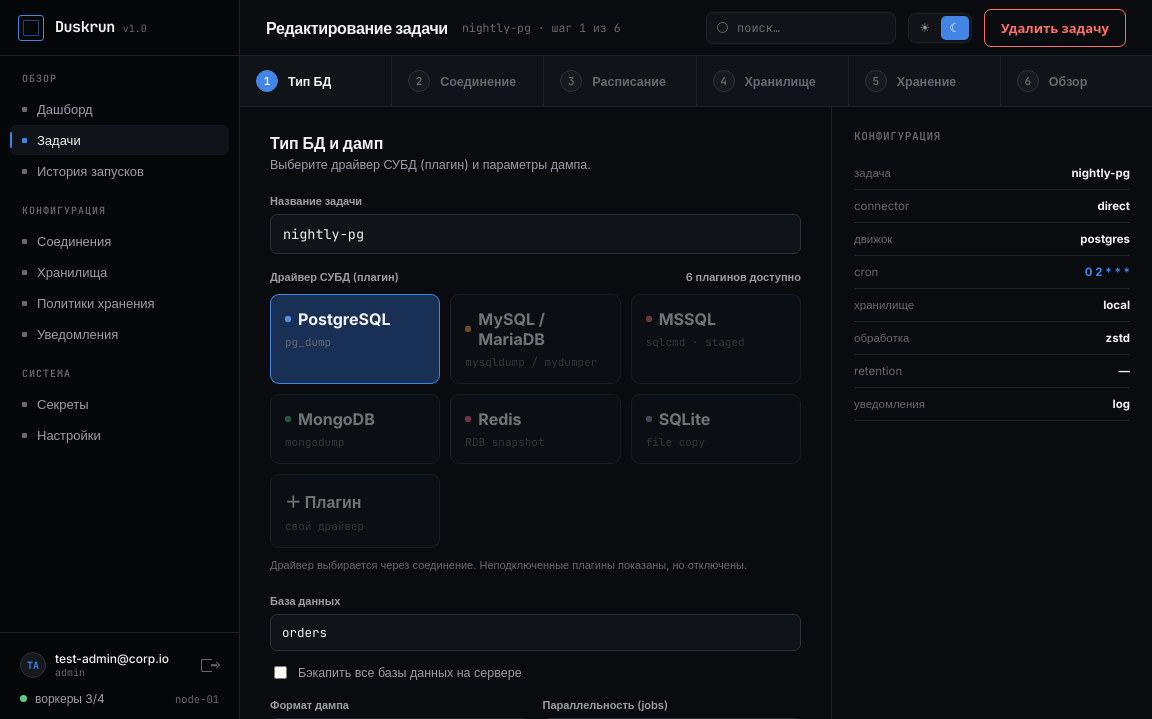
Test: TestTaskEditorRendersWizardPage: edit task is a page with comp-like steps and disabled missing options
Expected: the text "Тип БД и дамп" is shown, [270,133,383,153]
Expected: the text "＋ Плагин" is shown, [285,492,362,512]
Click the text "Хранилище" at {"x": 780, "y": 81}, box [744,74,816,88]
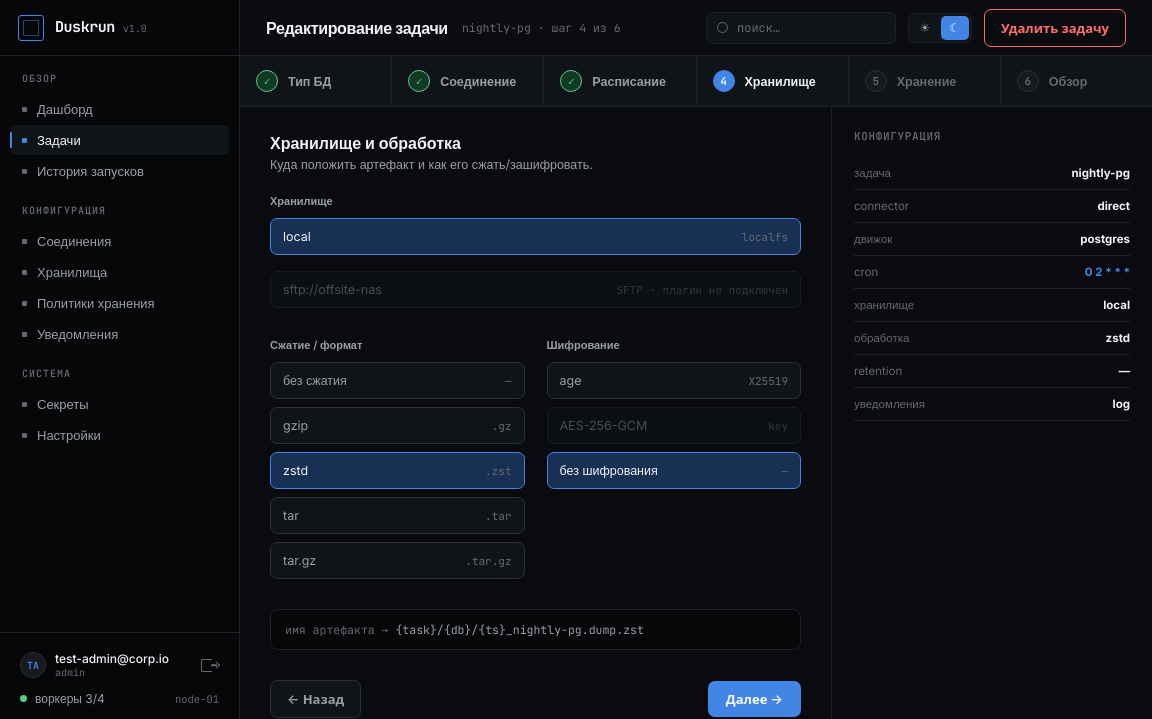
Expected: the text "sftp://offsite-nas" is shown, [283,282,382,297]
Click the text "Хранение" at {"x": 926, "y": 81}, box [897,74,956,88]
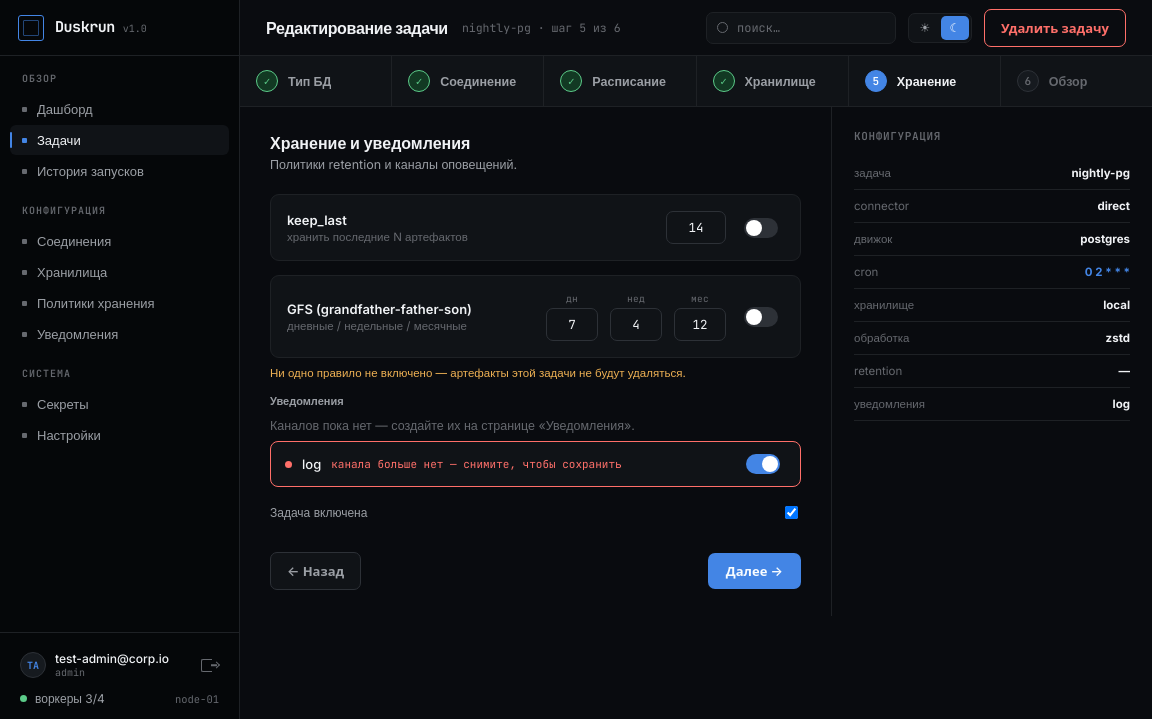
Expected: the text "GFS (grandfather-father-son)" is shown, [287,300,472,316]
